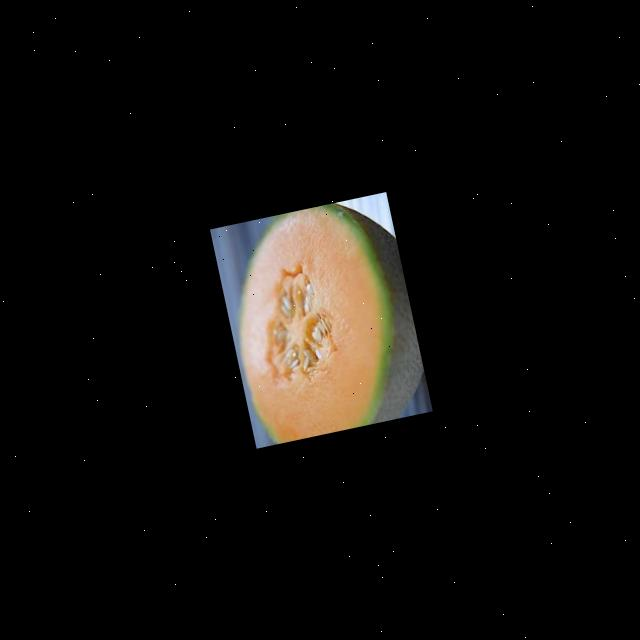Hami Melon: (212, 192, 432, 448)
